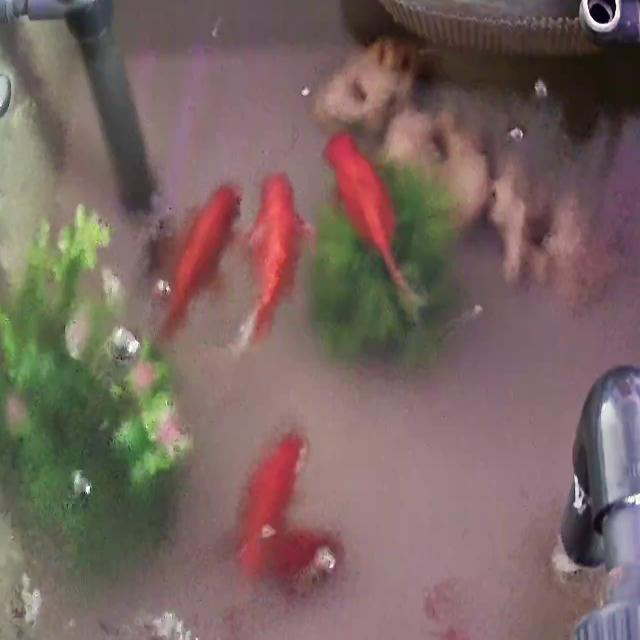fish: (323, 132, 412, 317), (151, 182, 240, 349), (237, 169, 309, 353), (236, 428, 308, 580), (259, 528, 343, 594)
